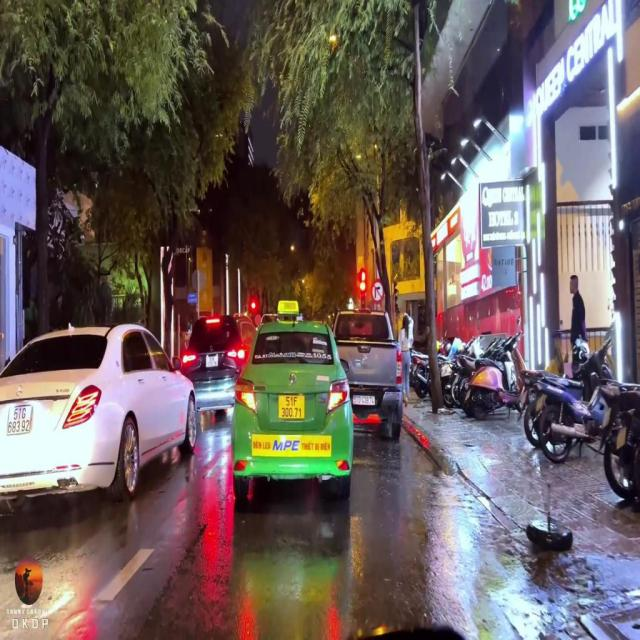cam_re_phai: (371, 278, 385, 305)
